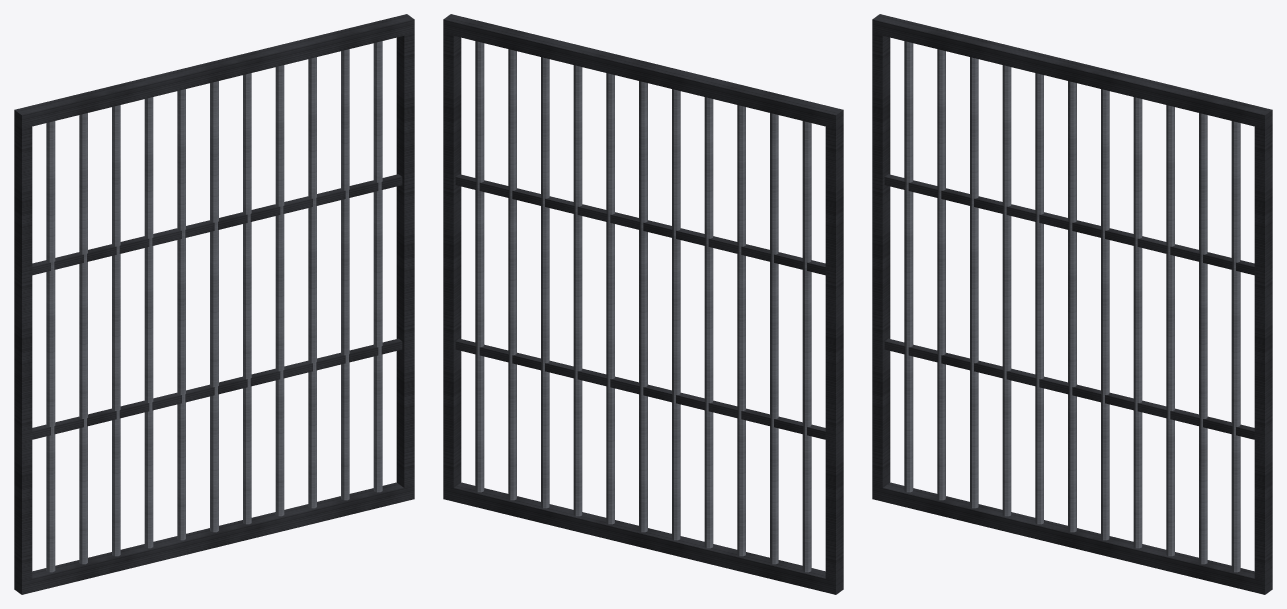
File: Gate.fbx
3 renders of one model, left to right at view 1: azimuth 30°, elevation 25°; view 2: azimuth 150°, elevation 25°; view 3: azimuth 330°, elevation 25°, orthographic.
Visible parts, largest first — view 1: Gate; view 2: Gate; view 3: Gate.
Part boxes in pixels (x1,y1,x2,y2): Gate: [14, 14, 414, 594]; Gate: [443, 14, 843, 594]; Gate: [872, 14, 1272, 594].
Size of the model in its own units: 3 by 3.5 by 0.1.
2 materials, 2 textured.
